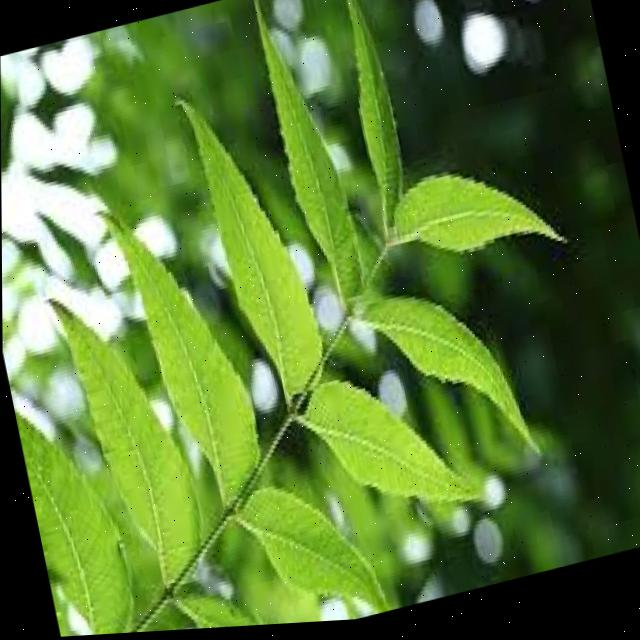Wet: (131, 0, 631, 578)
